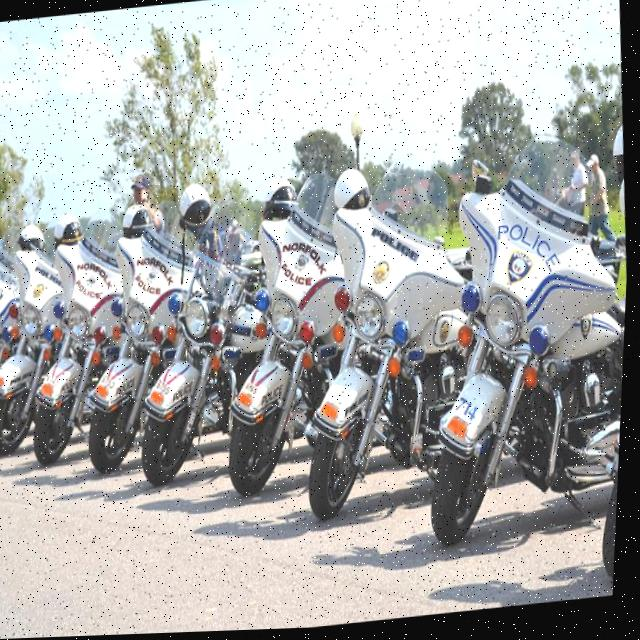motorcycle: (396, 151, 632, 567), (279, 157, 470, 551), (204, 161, 361, 534), (118, 154, 280, 503), (67, 184, 219, 518), (15, 192, 138, 473), (0, 206, 69, 483)
